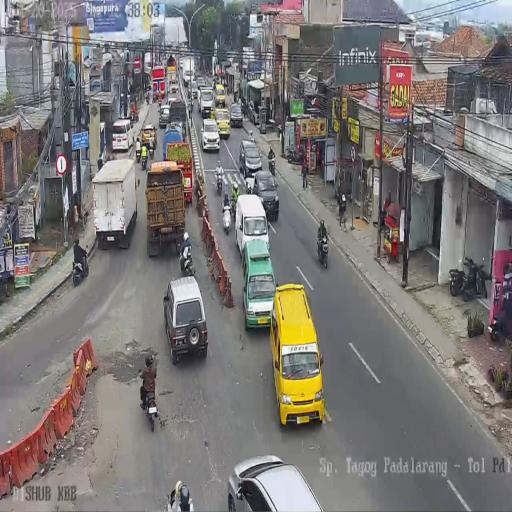car: (274, 285, 326, 425), (228, 454, 326, 510), (163, 277, 208, 364), (241, 241, 275, 328), (252, 171, 280, 221), (239, 138, 262, 178), (112, 117, 135, 154), (210, 107, 230, 140), (198, 87, 214, 118), (229, 102, 243, 128), (247, 99, 261, 125), (159, 104, 171, 128), (166, 120, 184, 136), (214, 84, 226, 106), (167, 82, 179, 102), (196, 75, 205, 90), (191, 80, 198, 99)
motorcycle: (450, 256, 488, 302), (140, 376, 161, 432), (489, 302, 511, 341), (72, 251, 88, 287), (180, 243, 194, 277), (317, 230, 329, 269), (285, 145, 302, 165), (222, 201, 232, 234), (215, 168, 224, 195), (230, 196, 237, 223), (140, 151, 148, 171), (268, 154, 275, 176), (130, 107, 139, 122), (188, 100, 194, 120), (148, 139, 154, 158), (136, 144, 142, 162), (276, 124, 282, 138), (146, 88, 150, 104), (158, 97, 162, 111), (153, 88, 157, 102)
truck: (92, 157, 138, 251), (164, 134, 193, 205), (180, 56, 194, 88), (166, 58, 177, 84), (144, 52, 152, 74)
